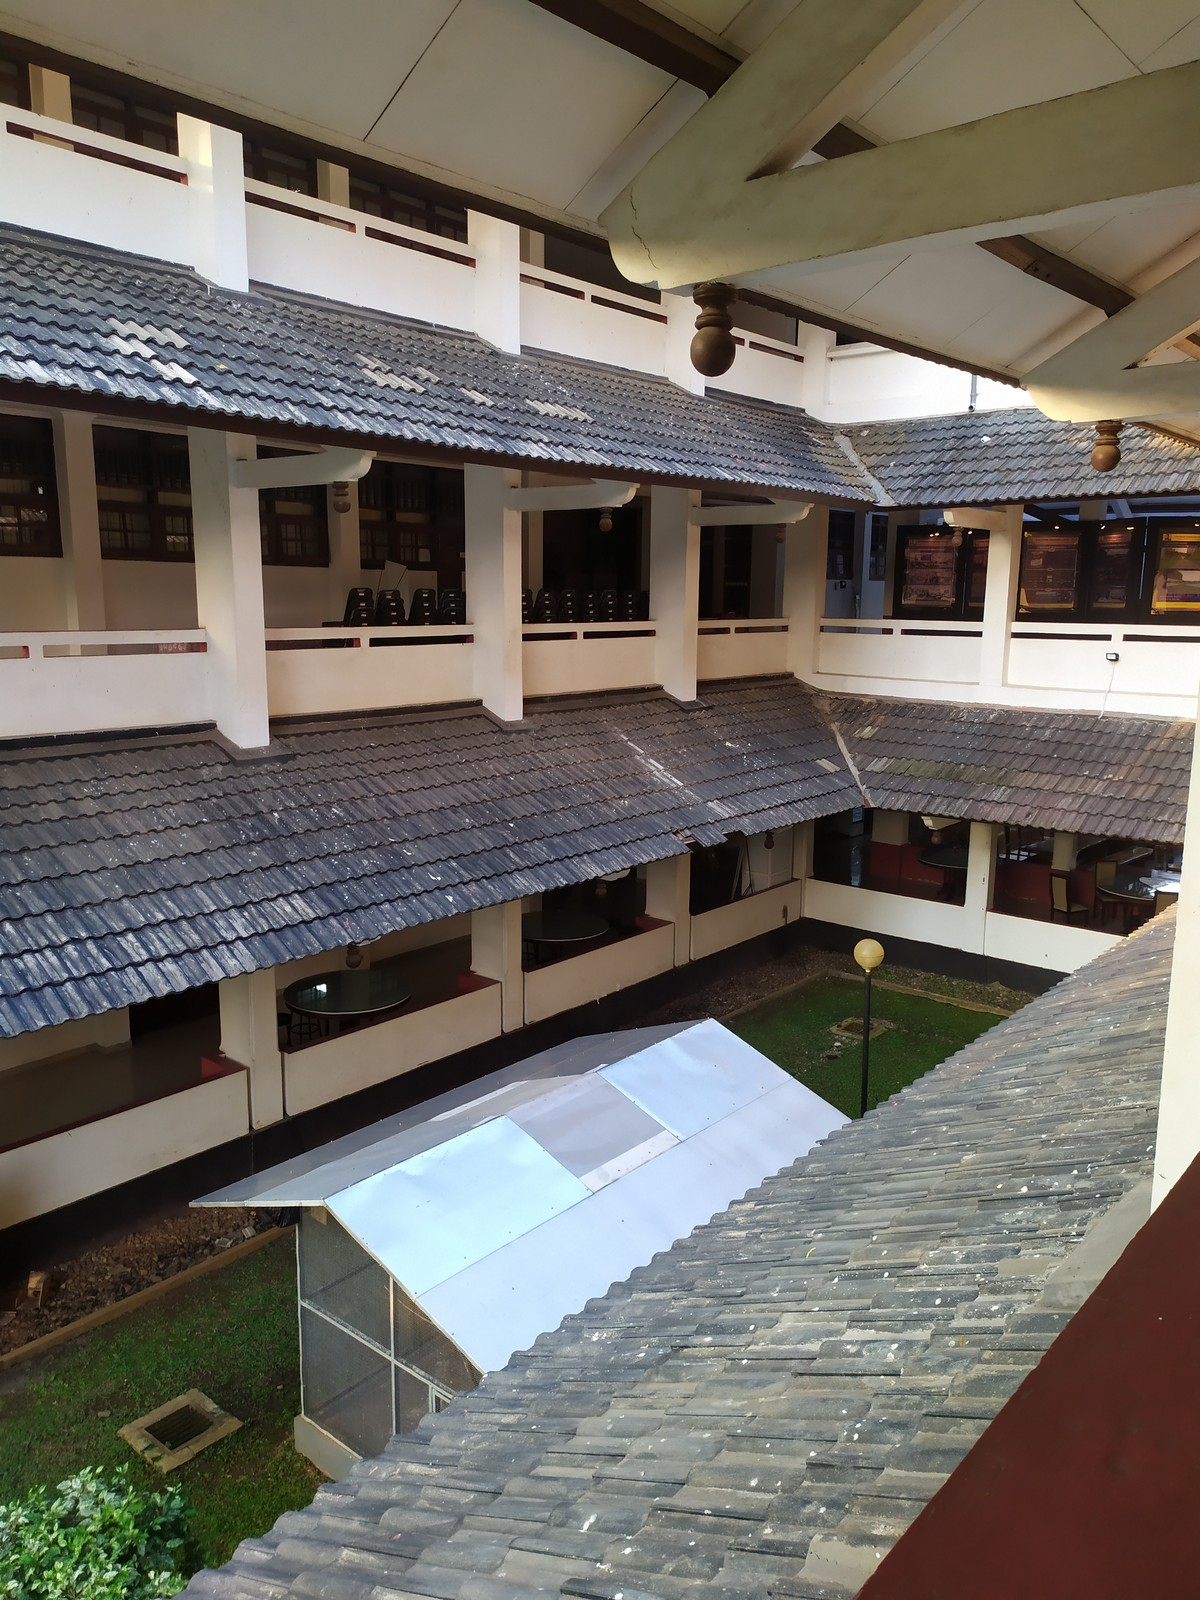concrete column: (180, 413, 275, 758), (456, 459, 536, 731), (648, 479, 710, 707), (221, 974, 289, 1124), (470, 894, 532, 1041)
